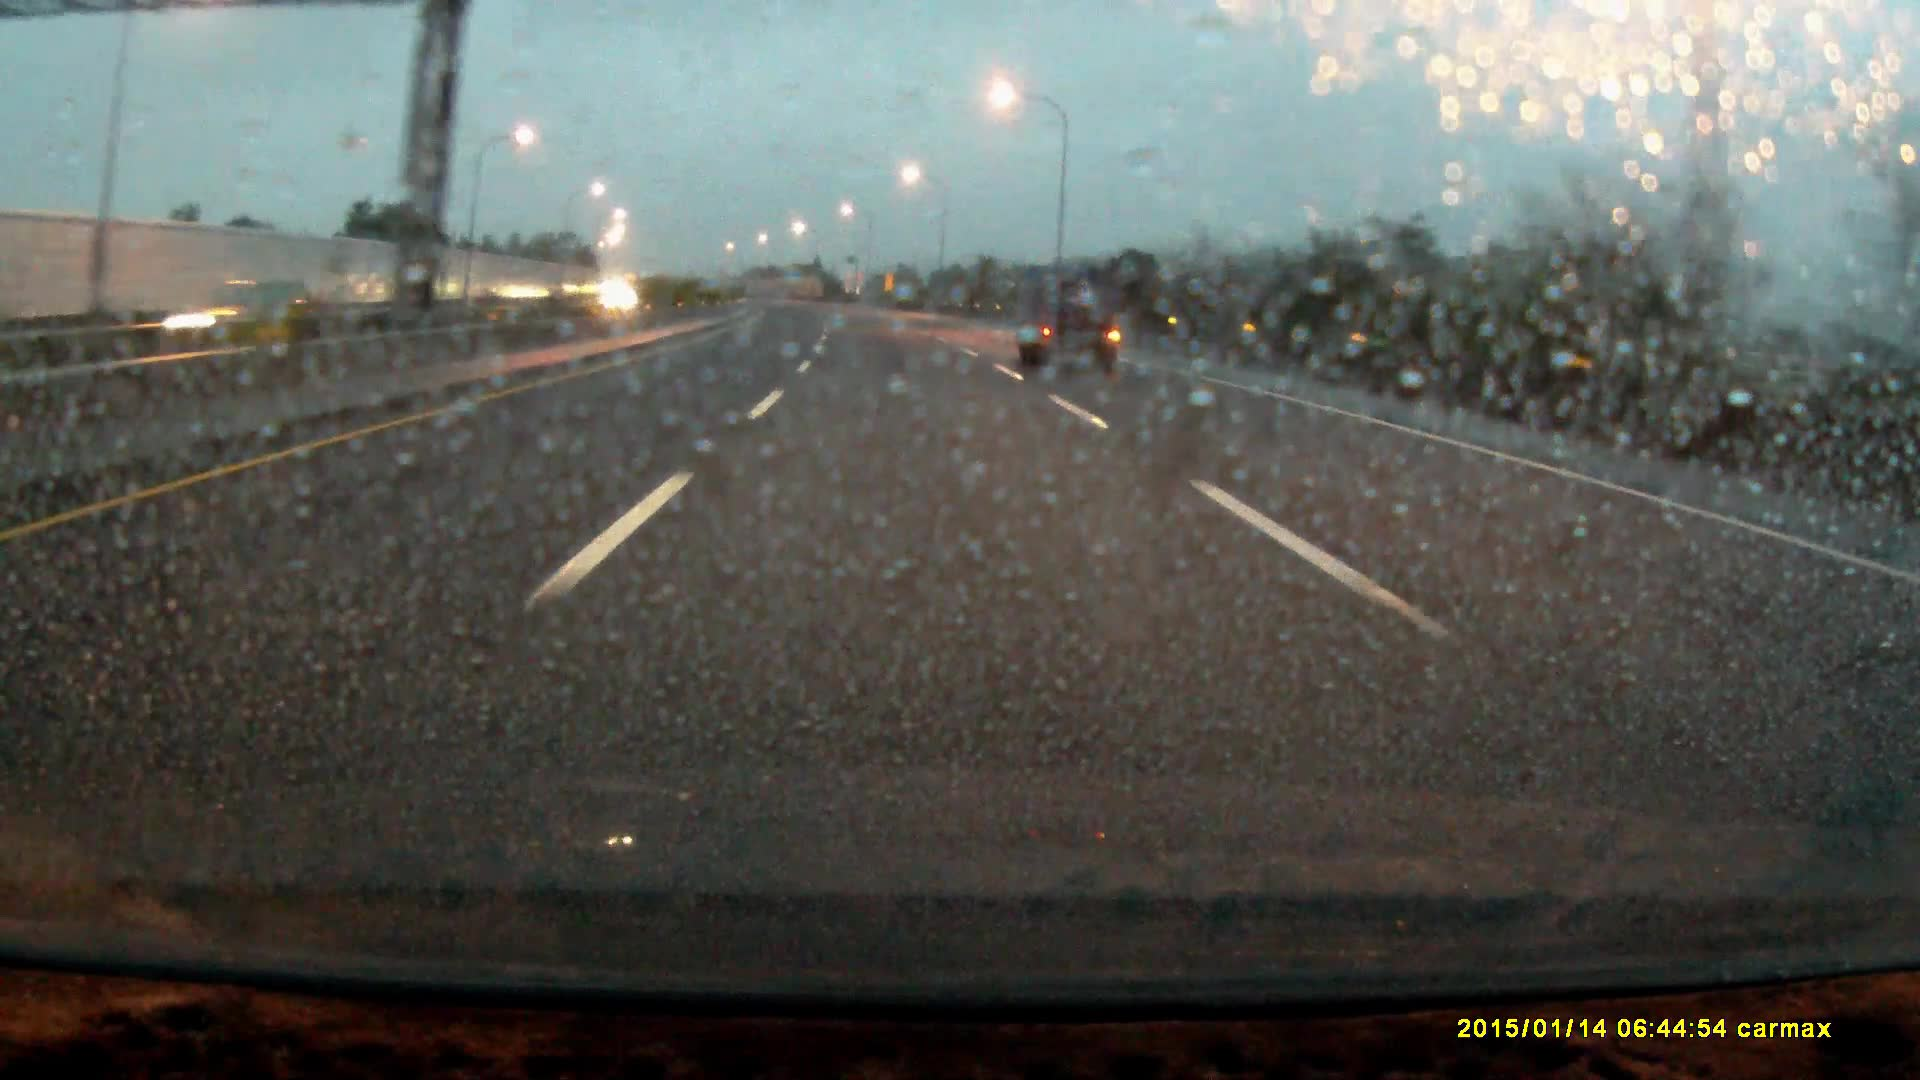vehicle: (53, 280, 258, 371), (1015, 274, 1120, 376), (574, 281, 644, 316)
